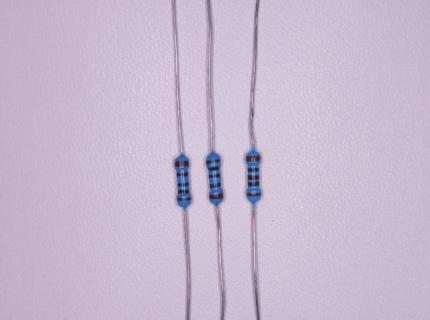Black band: (176, 172, 189, 177), (177, 182, 189, 187), (210, 183, 222, 188), (209, 173, 221, 178), (208, 166, 220, 171), (248, 182, 260, 187), (178, 189, 189, 194), (248, 175, 259, 180), (248, 168, 259, 172)
Brown band: (245, 156, 261, 162), (206, 159, 221, 165), (174, 161, 189, 167), (209, 193, 224, 199), (246, 192, 261, 197), (177, 197, 191, 202)
